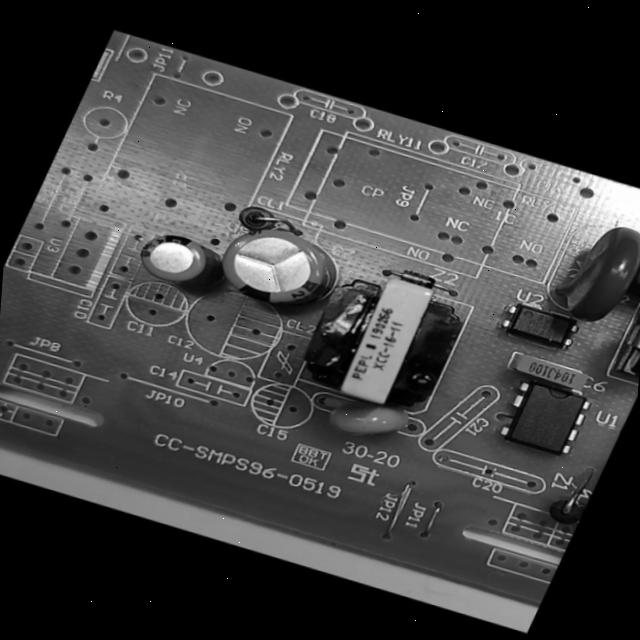Cap1: (196, 208, 350, 328)
Cap2: (122, 215, 237, 305)
MOSFET: (486, 368, 605, 469)
Mov: (531, 206, 640, 342)
Transformer: (281, 252, 485, 433), (606, 289, 640, 388)
